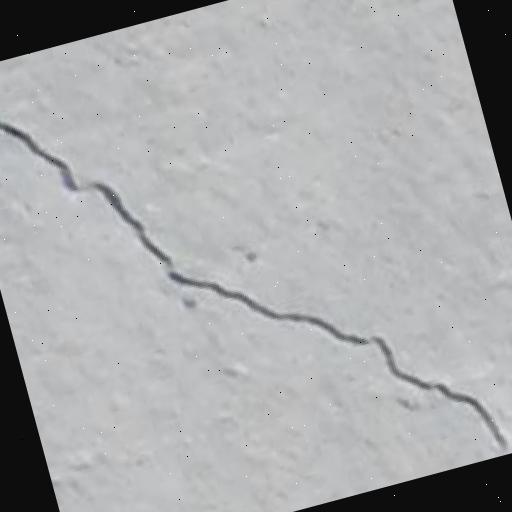spalling: (0, 103, 512, 454)
